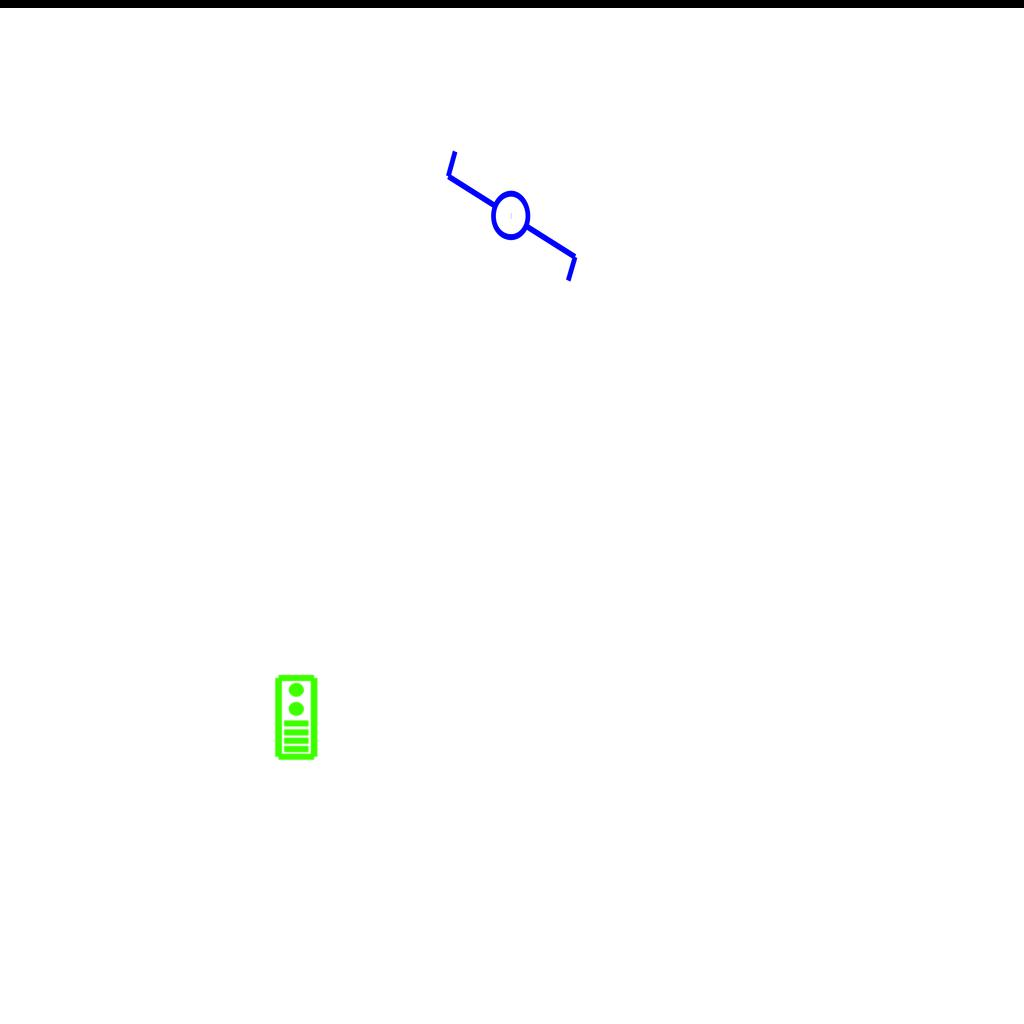Gegensprechanlage_mit_Video: (272, 673, 319, 761)
Wechselschalter: (441, 129, 585, 286)
